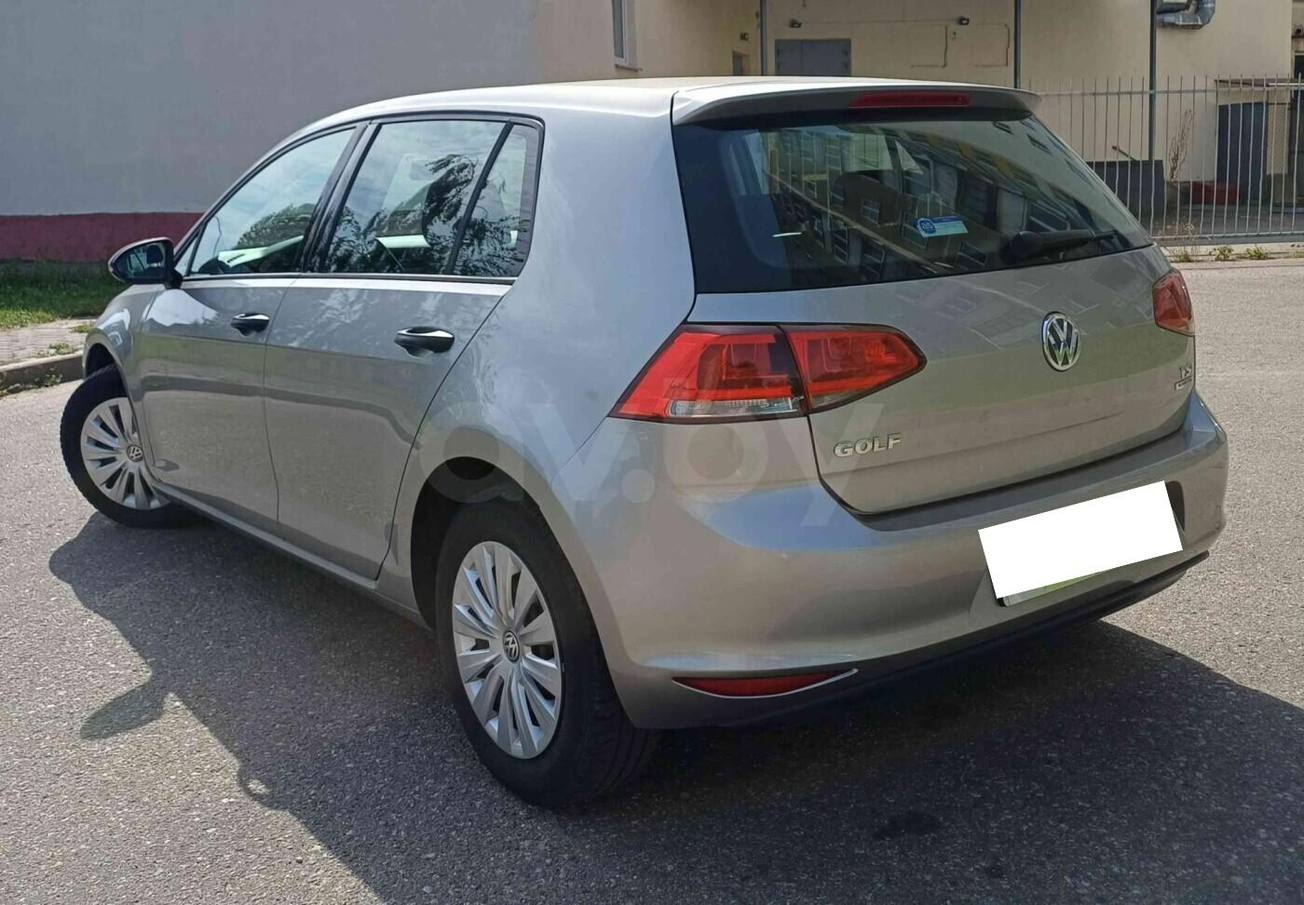Golf_2012-2017: (59, 78, 1238, 781)
